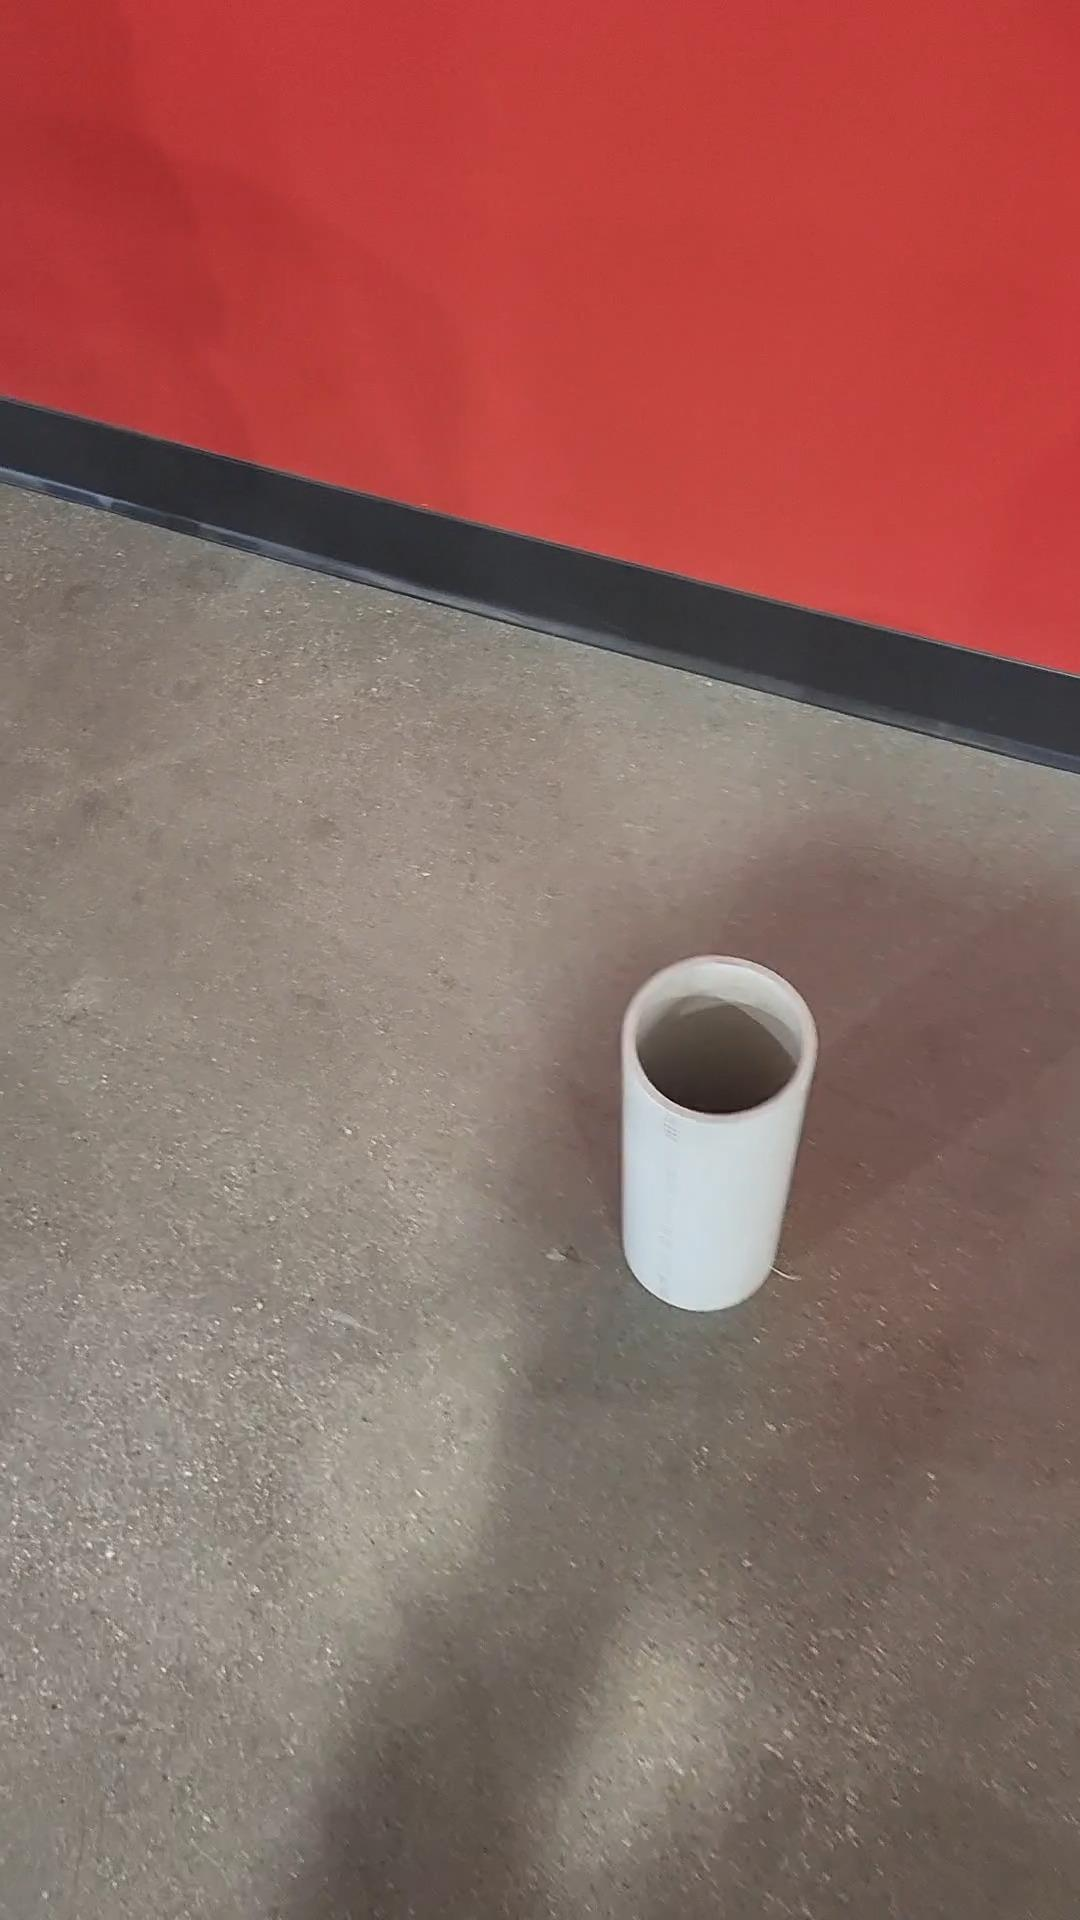coral: (616, 953, 818, 1315)
